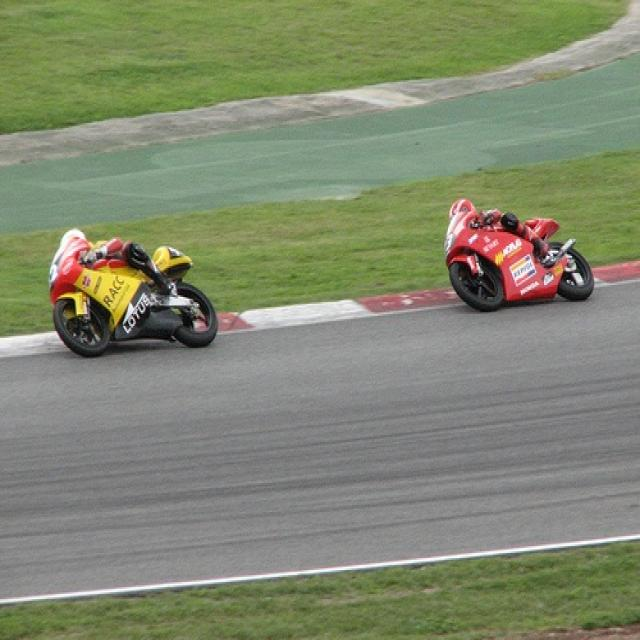motorbike: (46, 239, 219, 357), (446, 210, 596, 309)
